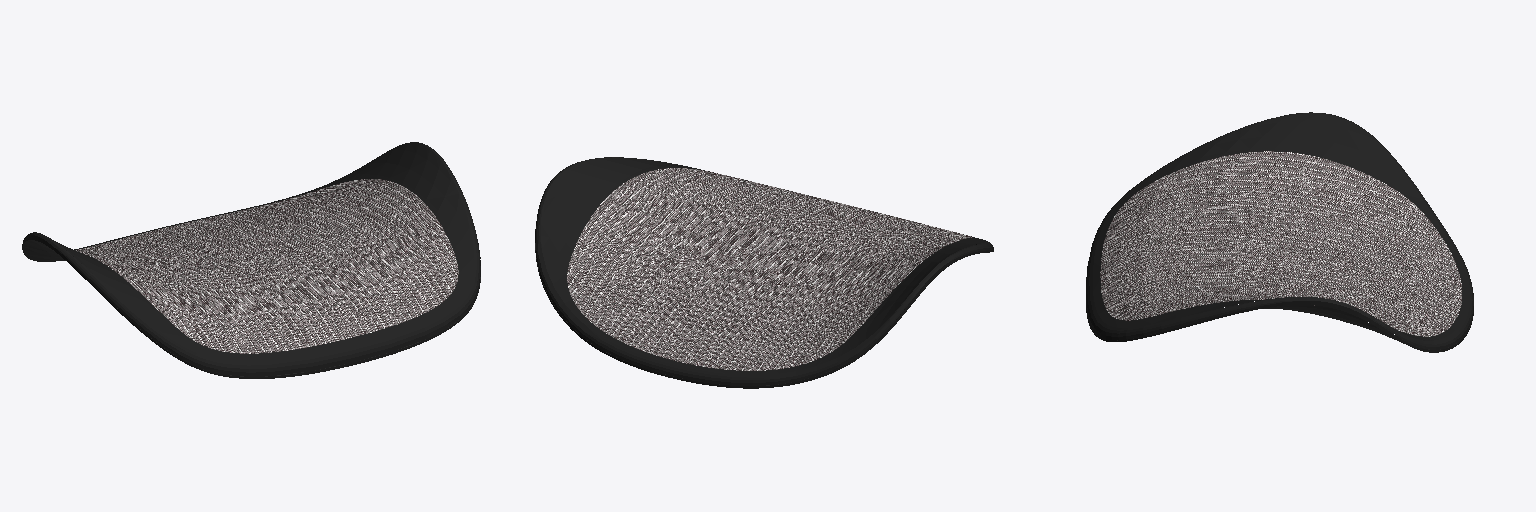
The picture shows the model from 3 angles: view 1: azimuth 30°, elevation 25°; view 2: azimuth 150°, elevation 25°; view 3: azimuth 270°, elevation 25°; orthographic projection.
Visible parts, largest first — view 1: mesh60/mesh60-geometry#mesh60-geometry; view 2: mesh60/mesh60-geometry#mesh60-geometry; view 3: mesh60/mesh60-geometry#mesh60-geometry.
Boxes of the visible parts, x1=… form: mesh60/mesh60-geometry#mesh60-geometry: x1=22, y1=142, x2=480, y2=378; mesh60/mesh60-geometry#mesh60-geometry: x1=535, y1=157, x2=993, y2=388; mesh60/mesh60-geometry#mesh60-geometry: x1=1086, y1=112, x2=1473, y2=352.
Bounding box in the file's own units: 0.8671 × 0.2199 × 0.7589.
Materials: 2 (1 with a texture image).